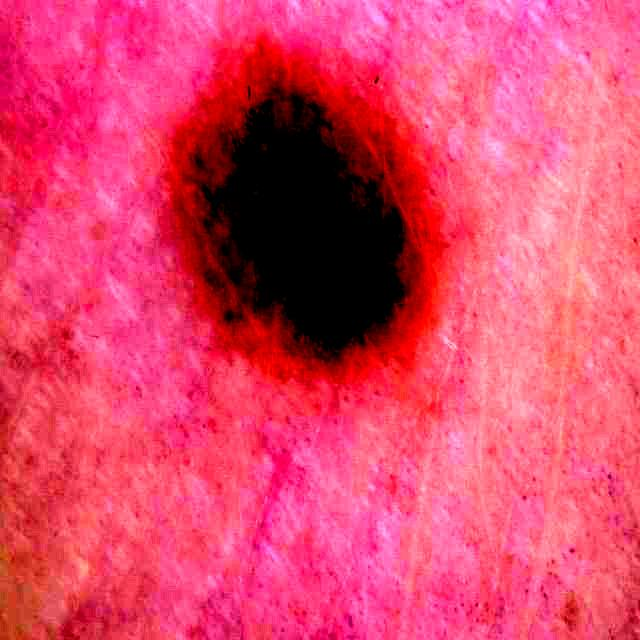NV: (178, 46, 423, 370)
